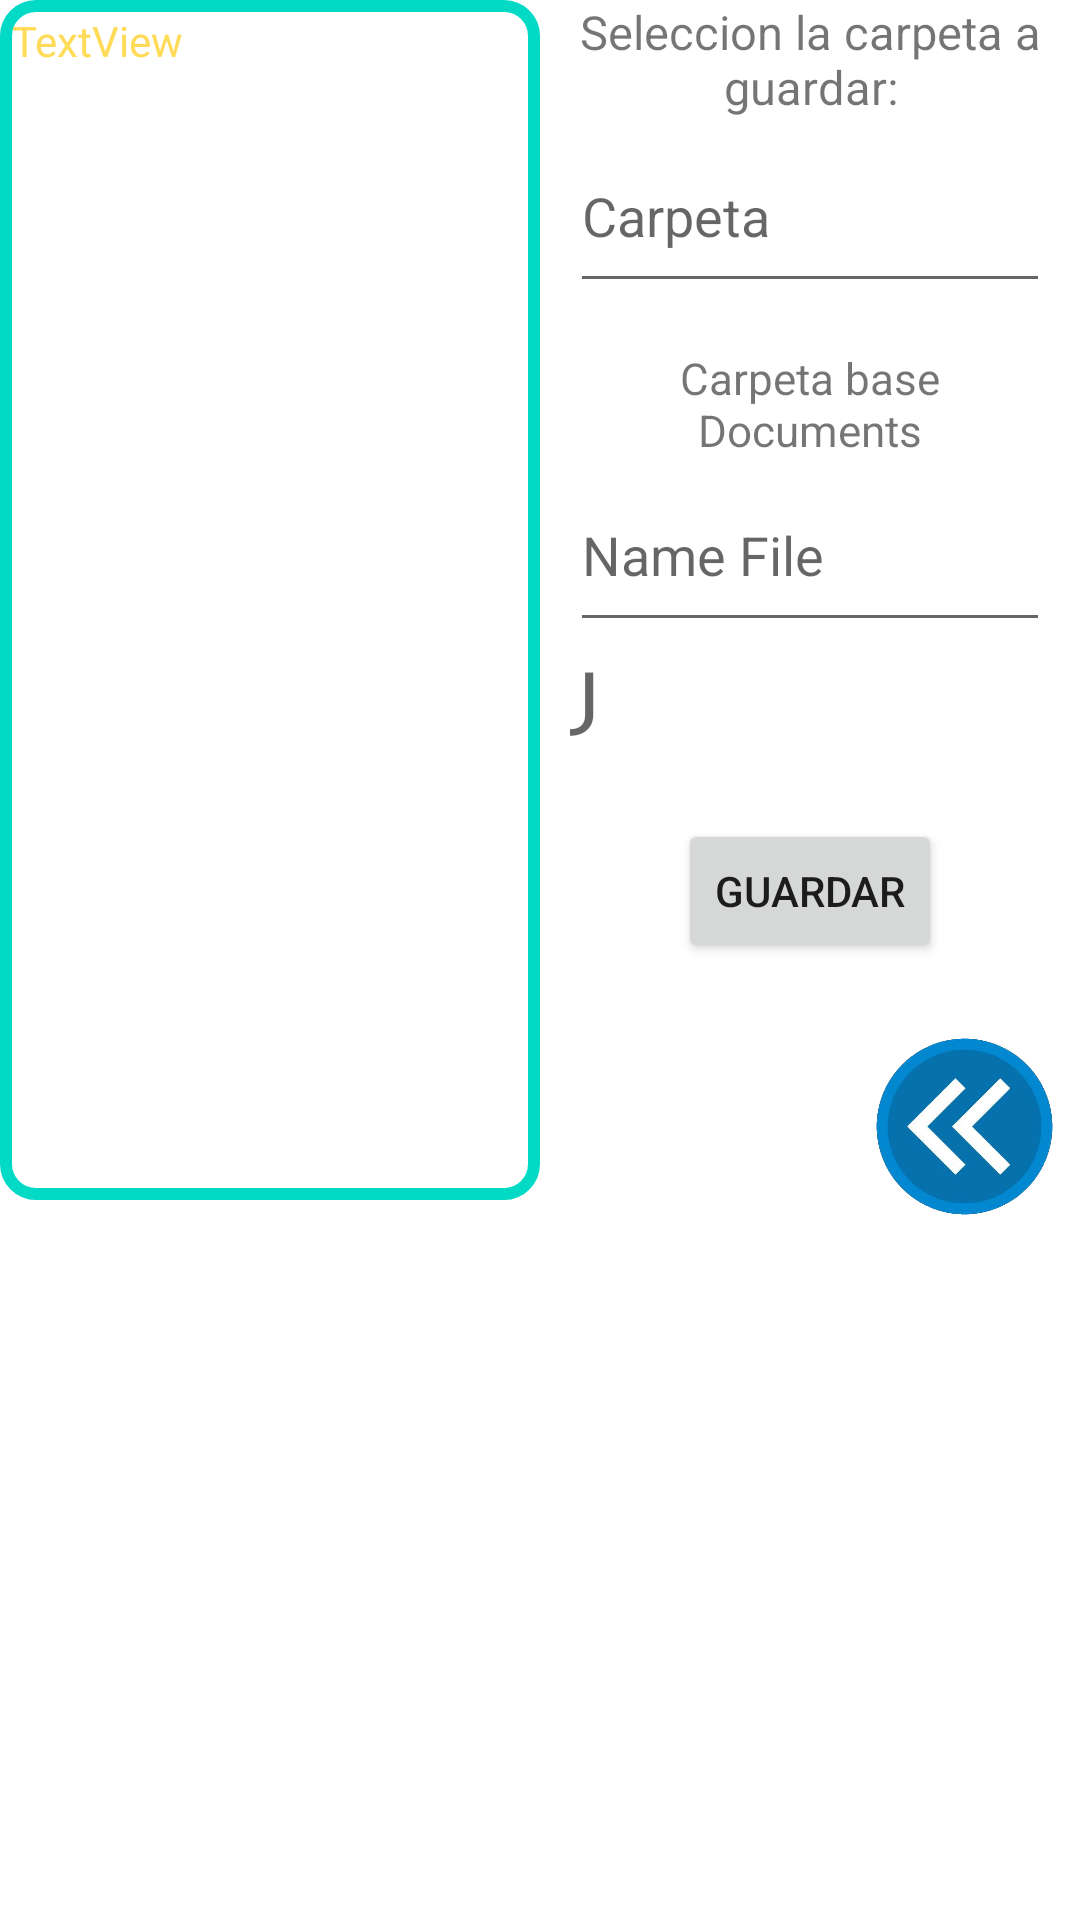

Icons on this 1080px×1920px Android screen, each with its box as (x1, y1, x2, y2):
back: (876, 1038, 1053, 1215)
